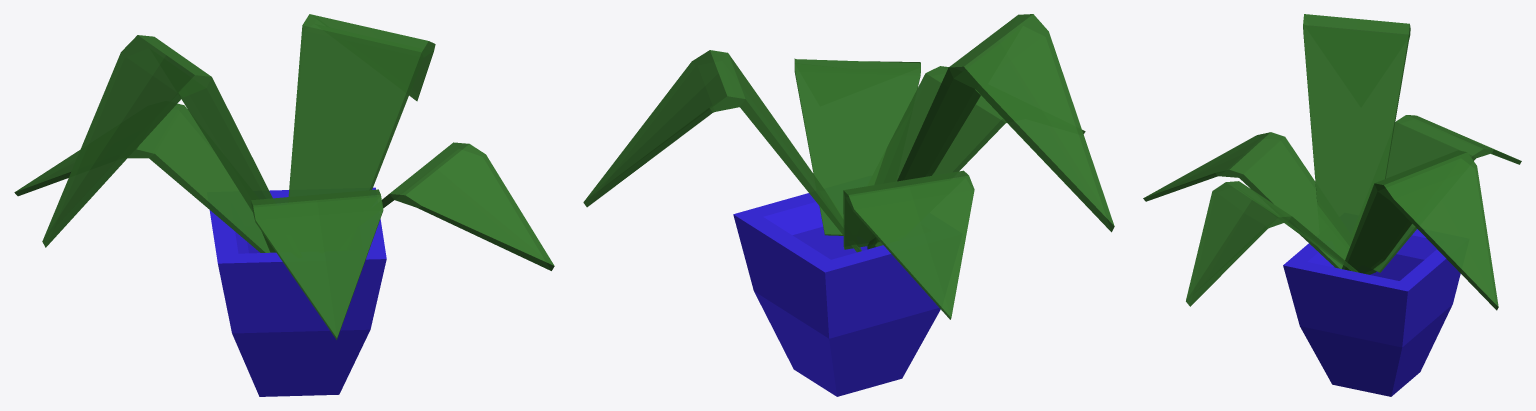
Rendered from plant.gltf.
3 renders of one model, left to right at view 1: azimuth 30°, elevation 25°; view 2: azimuth 150°, elevation 25°; view 3: azimuth 270°, elevation 25°, orthographic. The views are drawn at different scales.
Visible parts, largest first — view 1: plant, plant.001; view 2: plant, plant.001; view 3: plant, plant.001.
Boxes of the visible parts, left/top/right/bottom form: plant: left=14, top=14, right=554, bottom=339; plant.001: left=209, top=187, right=386, bottom=396; plant: left=583, top=14, right=1114, bottom=319; plant.001: left=733, top=193, right=940, bottom=396; plant: left=1143, top=14, right=1521, bottom=310; plant.001: left=1283, top=229, right=1460, bottom=396.
Size of the model in its own units: 1.38 by 1.07 by 1.2.
